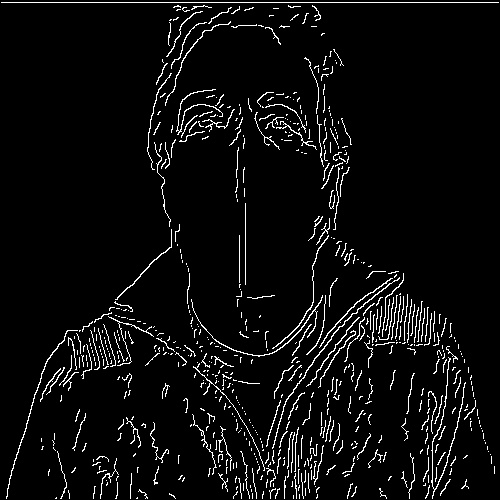mask: (159, 141, 328, 348)
